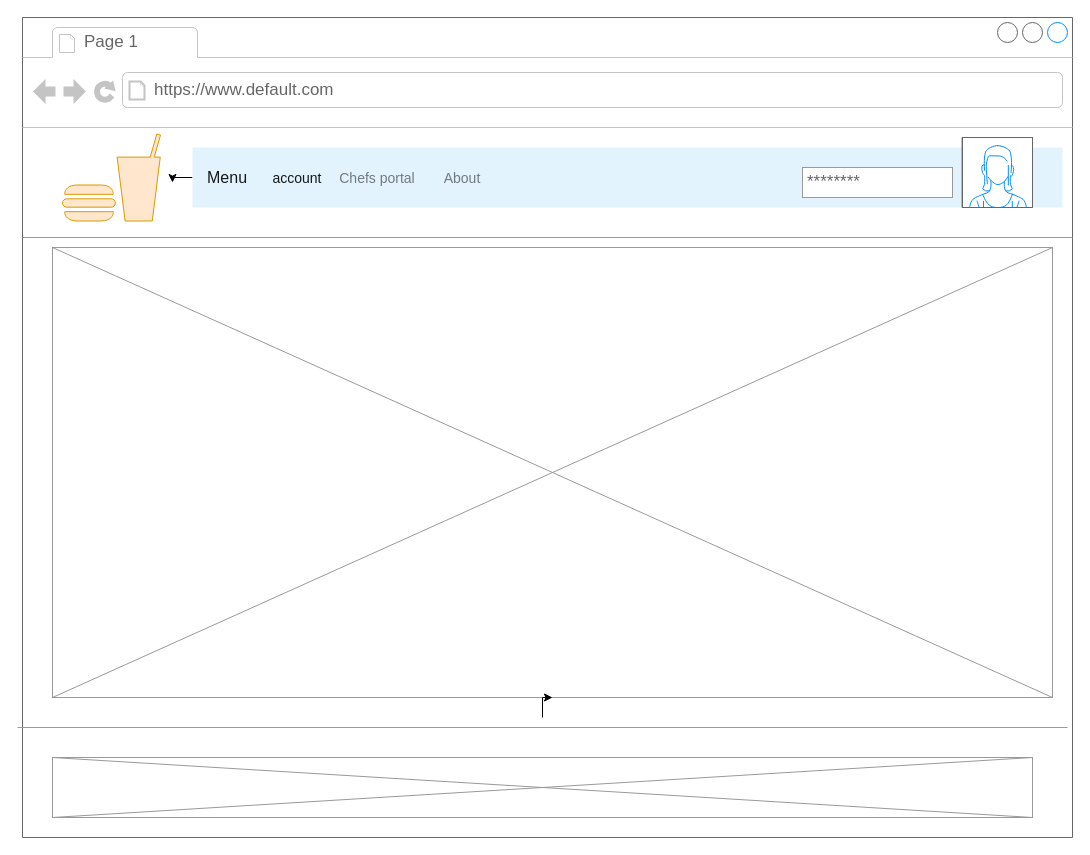
The diagram is 1090 pixels wide and 855 high, and some of its shapes have lost their labels. Each missing label, with the centre of its shape:
"featured restaurant" belongs at point (552, 472).
"YUMRs" belongs at point (111, 177).
